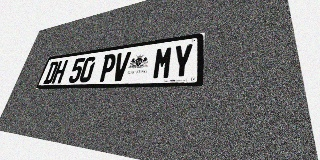0: (78, 56, 97, 83)
5: (68, 57, 86, 83)
D: (43, 61, 59, 84)
H: (51, 60, 68, 84)
M: (152, 46, 174, 80)
P: (98, 53, 117, 82)
V: (111, 51, 131, 81)
Y: (171, 43, 194, 79)
